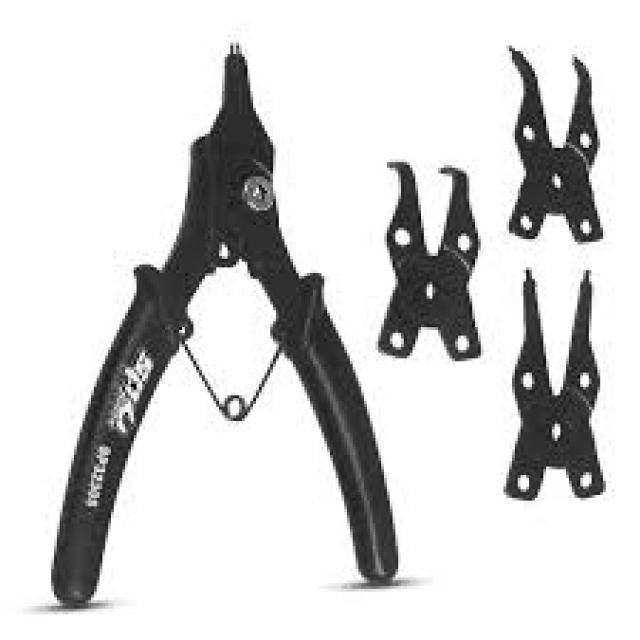pliers: (46, 37, 414, 594)
